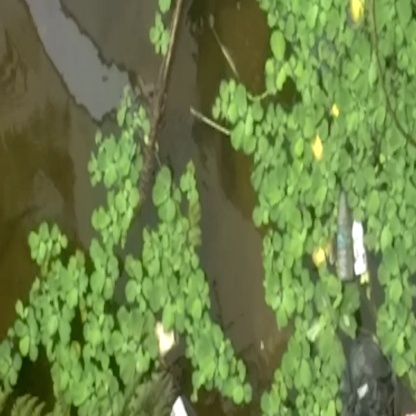bottle: (334, 191, 354, 282)
